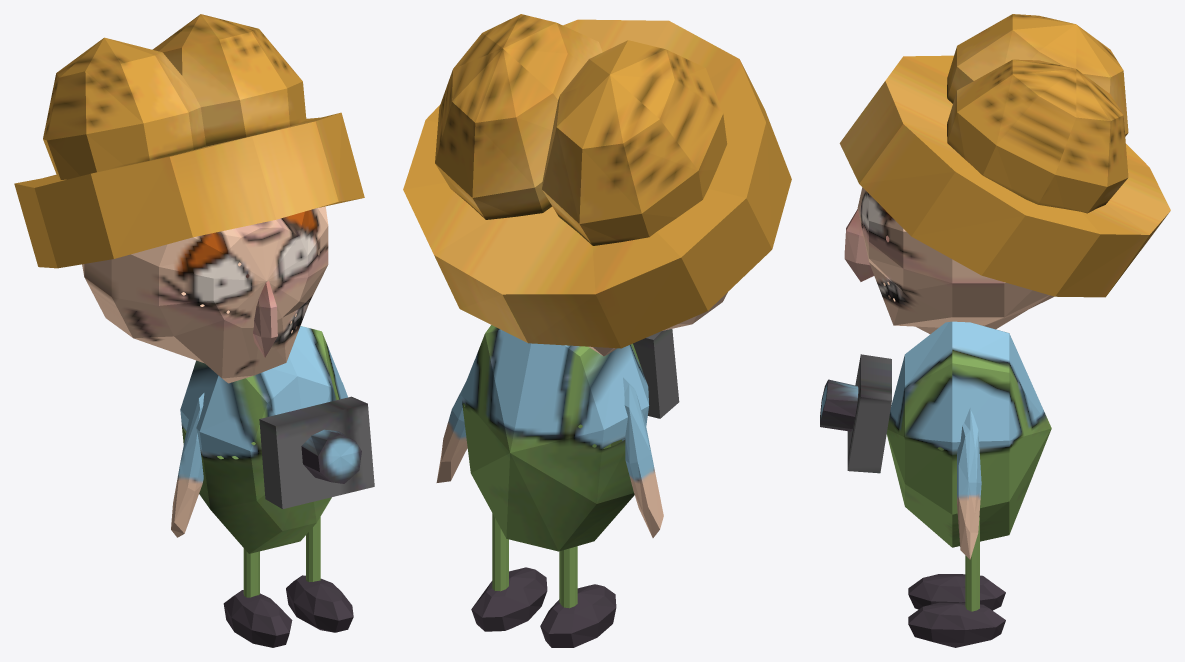
Rendered from Dude1.glb.
The picture shows the model from 3 angles, left to right: view 1: azimuth 30°, elevation 25°; view 2: azimuth 150°, elevation 25°; view 3: azimuth 270°, elevation 25°; orthographic projection. The views are drawn at different scales.
Visible parts, largest first — view 1: Dude1; view 2: Dude1; view 3: Dude1.
Boxes of the visible parts, x1=… form: Dude1: x1=14, y1=14, x2=374, y2=647; Dude1: x1=403, y1=14, x2=791, y2=647; Dude1: x1=820, y1=14, x2=1170, y2=647.
Size of the model in its own units: 491 by 889 by 509.
Materials: 1 (1 with a texture image).
